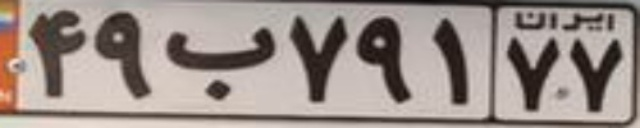1: (430, 15, 470, 105)
4: (28, 10, 85, 98)
7: (288, 14, 352, 103), (566, 36, 625, 112), (505, 36, 561, 110)
9: (356, 14, 415, 104), (98, 10, 152, 97)
be: (163, 23, 276, 102)
